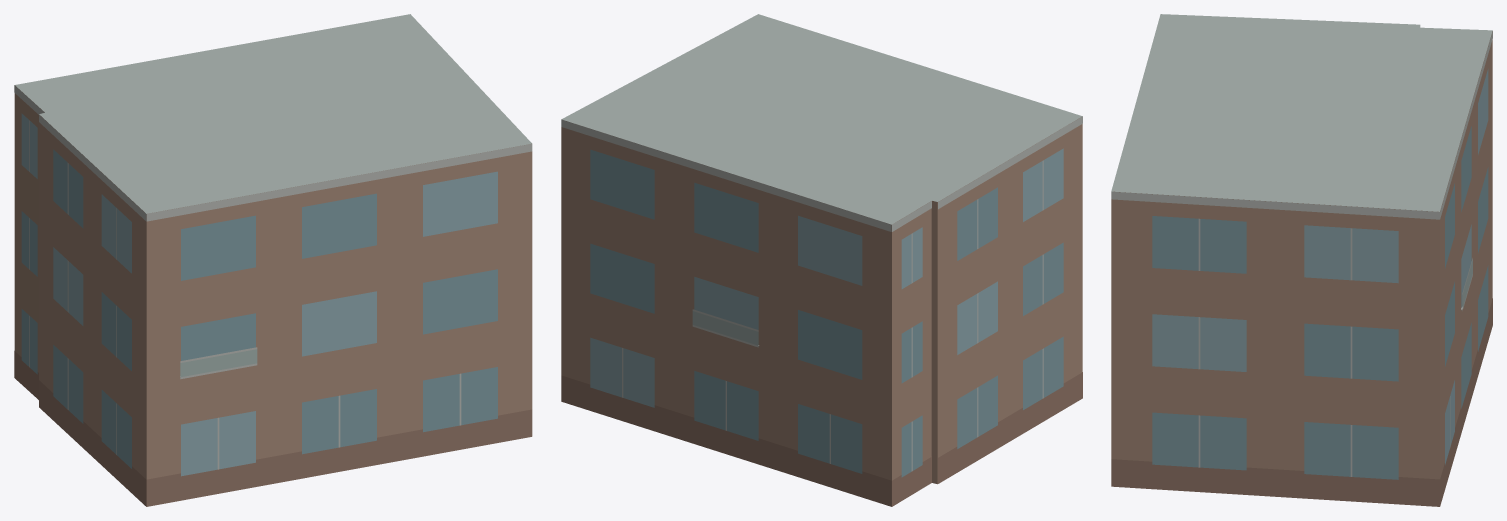
File: survey-upis-32659645.glb
3 views of the same model, side by side, from view 1: azimuth 30°, elevation 25°; view 2: azimuth 150°, elevation 25°; view 3: azimuth 270°, elevation 25° (orthographic). The views are drawn at different scales.
Parts seen in each view (by area): view 1: survey-upis-32659645.tmp; view 2: survey-upis-32659645.tmp; view 3: survey-upis-32659645.tmp.
Part boxes in pixels (box(x1,y1,x2,y2)): survey-upis-32659645.tmp: box(14, 14, 532, 506); survey-upis-32659645.tmp: box(561, 14, 1082, 506); survey-upis-32659645.tmp: box(1111, 14, 1492, 506).
Bounding box in the file's own units: 13.17 × 9.15 × 10.74.
